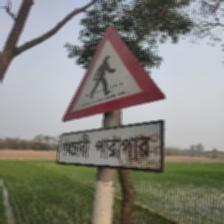Pedestrian-crossing: (57, 23, 169, 174)
